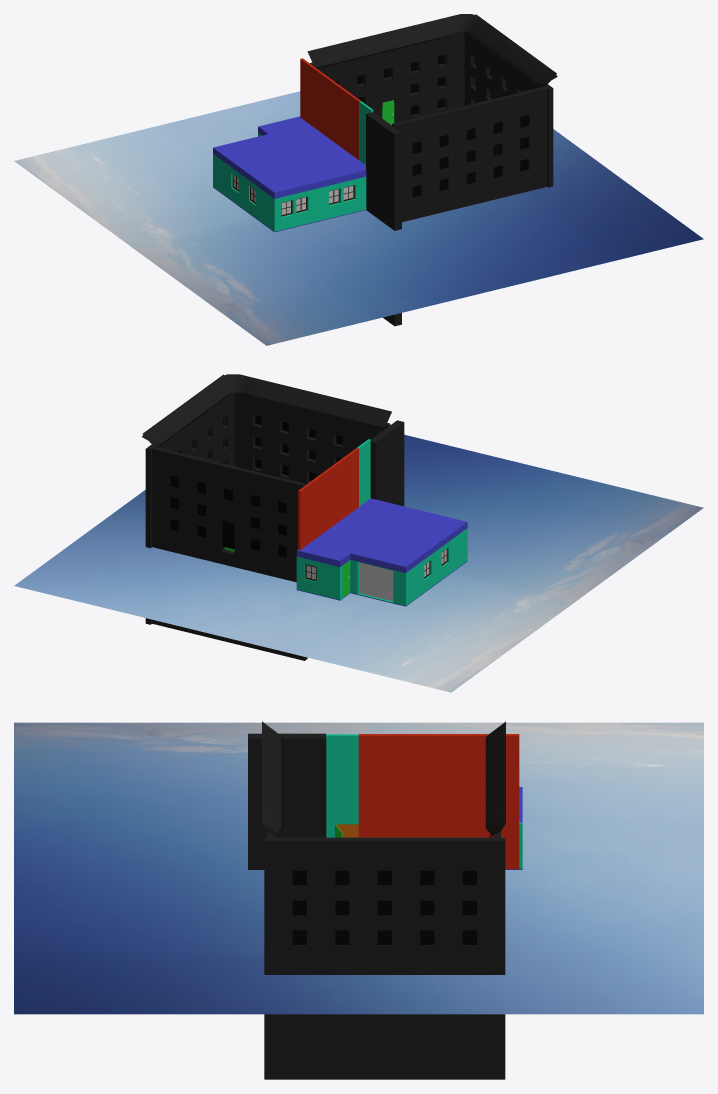
Rendered from wohnung.obj.
The picture shows the model from 3 angles, top to bottom: view 1: azimuth 30°, elevation 25°; view 2: azimuth 150°, elevation 25°; view 3: azimuth 270°, elevation 25°; orthographic projection. The views are drawn at different scales.
Visible parts, largest first — view 1: Boden_Aussen_Plane.007, WandR_Plane.024, WandL_Plane.022, Decke_Cube.037, Dach_Plane.023, Daemmung_Cube.004, WandF3_Cube.056, WandF1_Cube.058, WandB_Plane.025, WandR_Innen_Plane, DeckeBad_Cube.054, WandL_Innen_Plane; view 2: Boden_Aussen_Plane.007, WandL_Plane.022, WandR_Plane.024, Decke_Cube.037, Dach_Plane.023, Daemmung_Cube.004, WandF1_Cube.058, WandB_Plane.025, WandF3_Cube.056, WandL_Innen_Plane, Plane_Plane.003, WandF2_Cube.059 (+2 smaller); view 3: Boden_Aussen_Plane.007, WandB_Plane.025, WandF1_Cube.058, WandF3_Cube.056, Dach_Plane.023, WandB_Innen_Plane, WandF2_Cube.059, Aussenwand2.001_Cube.005.
Part boxes in pixels (<box>): Boden_Aussen_Plane.007: <box>14,91,703,345</box>; WandR_Plane.024: <box>392,86,547,222</box>; WandL_Plane.022: <box>310,32,464,122</box>; Decke_Cube.037: <box>213,116,366,198</box>; Dach_Plane.023: <box>307,14,557,90</box>; Daemmung_Cube.004: <box>213,133,366,231</box>; WandF3_Cube.056: <box>366,112,401,326</box>; WandF1_Cube.058: <box>300,58,360,159</box>; WandB_Plane.025: <box>464,32,553,187</box>; WandR_Innen_Plane: <box>412,115,529,197</box>; DeckeBad_Cube.054: <box>292,162,341,188</box>; WandL_Innen_Plane: <box>335,55,443,114</box>; Boden_Aussen_Plane.007: <box>14,434,703,692</box>; WandL_Plane.022: <box>152,447,307,660</box>; WandR_Plane.024: <box>234,392,390,483</box>; Decke_Cube.037: <box>296,498,467,572</box>; Dach_Plane.023: <box>142,374,391,450</box>; Daemmung_Cube.004: <box>296,528,467,605</box>; WandF1_Cube.058: <box>298,448,358,549</box>; WandB_Plane.025: <box>145,392,234,624</box>; WandF3_Cube.056: <box>370,420,404,506</box>; WandL_Innen_Plane: <box>170,475,286,557</box>; Plane_Plane.003: <box>359,562,393,601</box>; WandF2_Cube.059: <box>357,439,370,506</box>; Boden_Aussen_Plane.007: <box>14,722,703,1014</box>; WandB_Plane.025: <box>264,837,505,1079</box>; WandF1_Cube.058: <box>358,734,519,824</box>; WandF3_Cube.056: <box>248,733,326,869</box>; Dach_Plane.023: <box>262,721,505,837</box>; WandB_Innen_Plane: <box>292,870,476,944</box>; WandF2_Cube.059: <box>326,734,358,824</box>; Aussenwand2.001_Cube.005: <box>358,824,519,869</box>.
Bounding box in the file's own units: 36.87 × 16.45 × 36.87.
